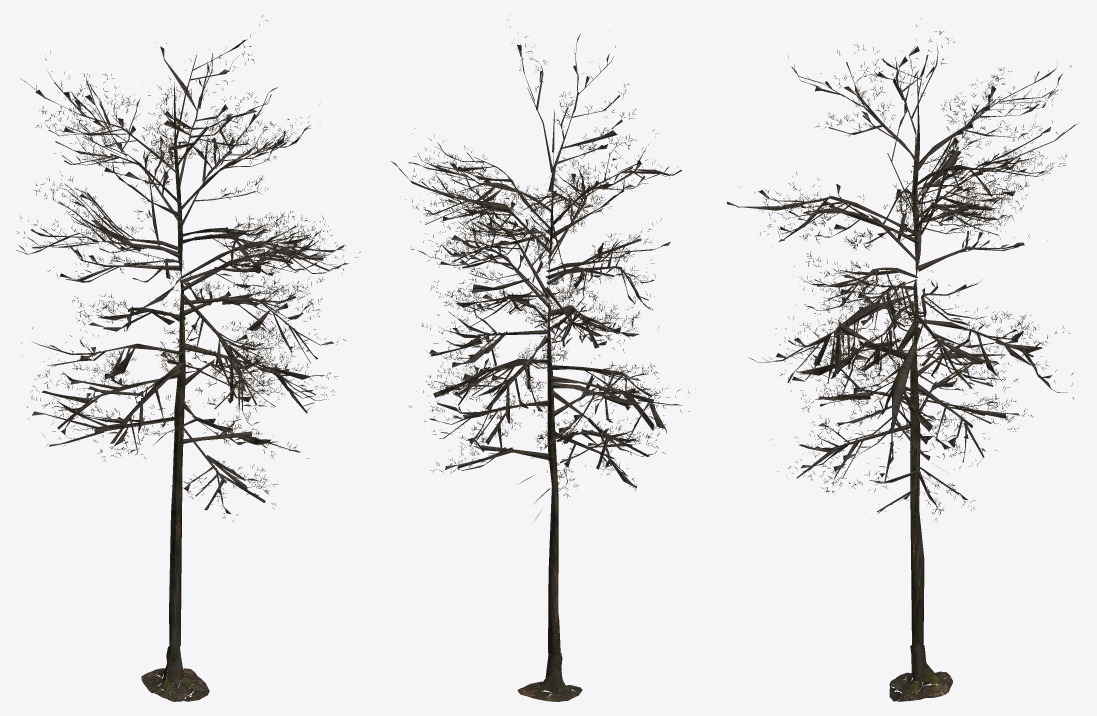
The model's file is pine_distant.glb.
3 views of the same model, side by side, from view 1: azimuth 30°, elevation 25°; view 2: azimuth 150°, elevation 25°; view 3: azimuth 270°, elevation 25° (orthographic). The views are drawn at different scales.
Parts seen in each view (by area): view 1: pine_tree_01_b_LOD0; view 2: pine_tree_01_b_LOD0; view 3: pine_tree_01_b_LOD0.
Boxes of the visible parts, x1,y1,x2,y2 form: pine_tree_01_b_LOD0: [16, 15, 360, 701]; pine_tree_01_b_LOD0: [391, 19, 695, 701]; pine_tree_01_b_LOD0: [727, 18, 1078, 701].
Size of the model in its own units: 6.75 by 14.79 by 6.97.
4 materials, 4 textured.
